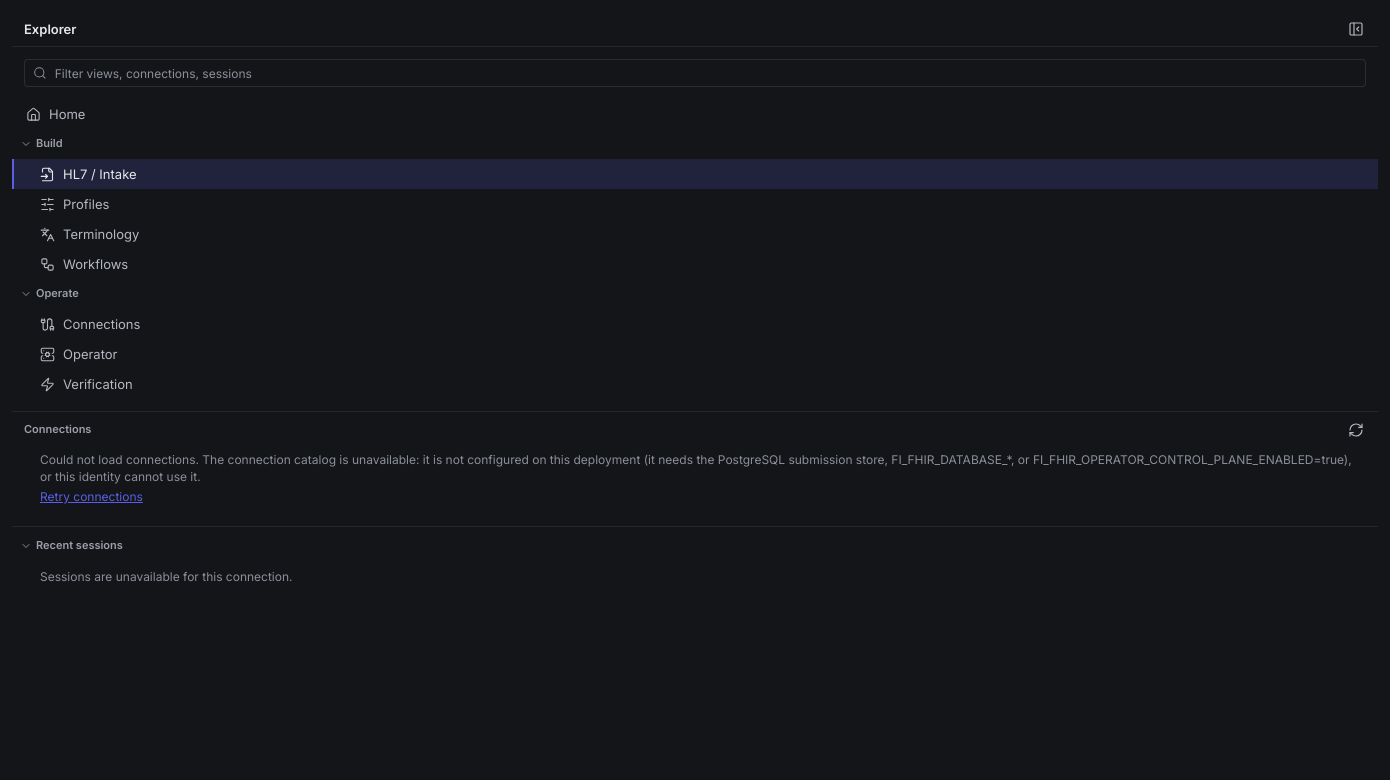
it: Explorer connections › tries unknown capability, reports failure, and retries to honest empty groups
Expected: the element "connection catalog" shows "The connection catalog is unavailable", x1=40 y1=452 x2=1352 y2=484
Expected: the element "connection catalog" does not show "No source connections", x1=12 y1=411 x2=1378 y2=514
What coordinates should you click on to do the following:
click the button "Retry connections"
I would click on:
 (91, 497)
Its box is x1=40 y1=489 x2=143 y2=506.
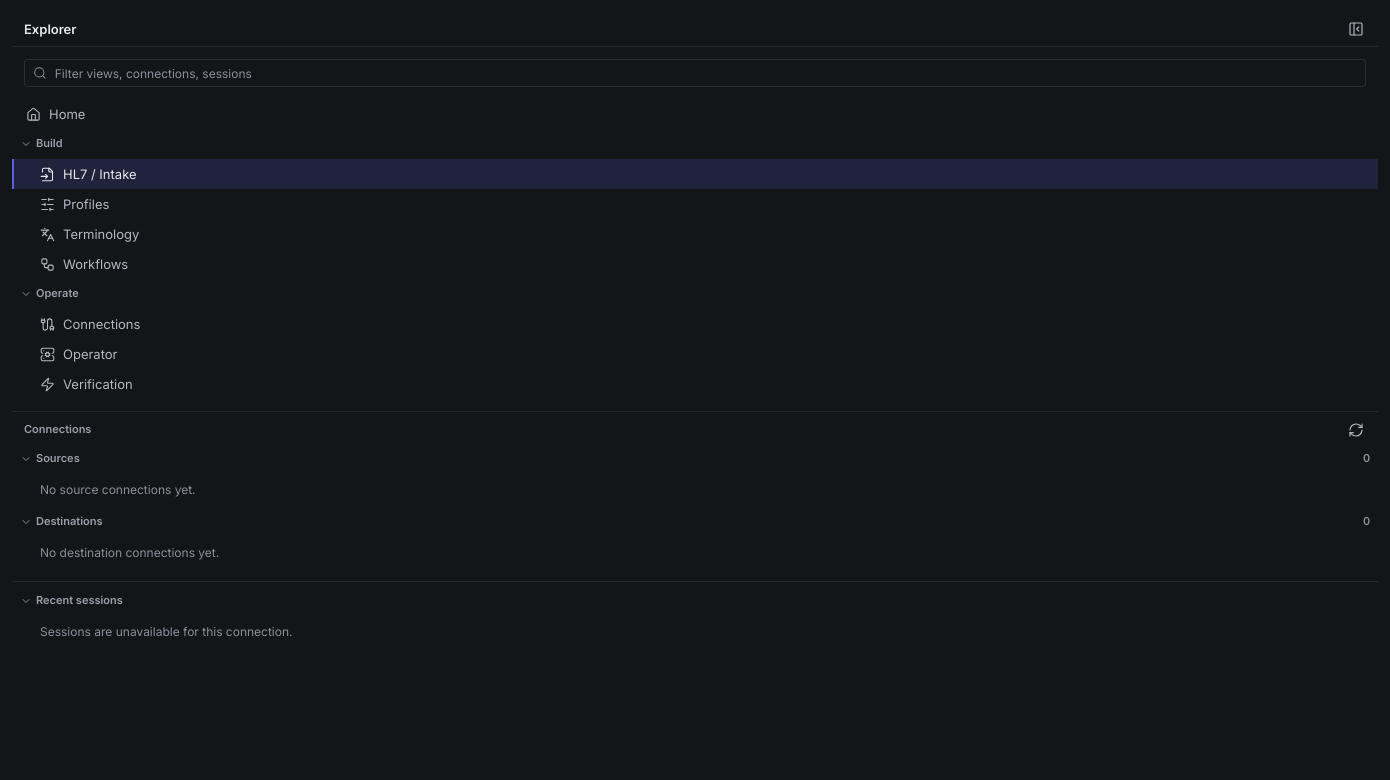
Expected: the text "No source connections yet." is shown, x1=40 y1=482 x2=196 y2=497
Expected: the text "No destination connections yet." is shown, x1=40 y1=544 x2=219 y2=560
